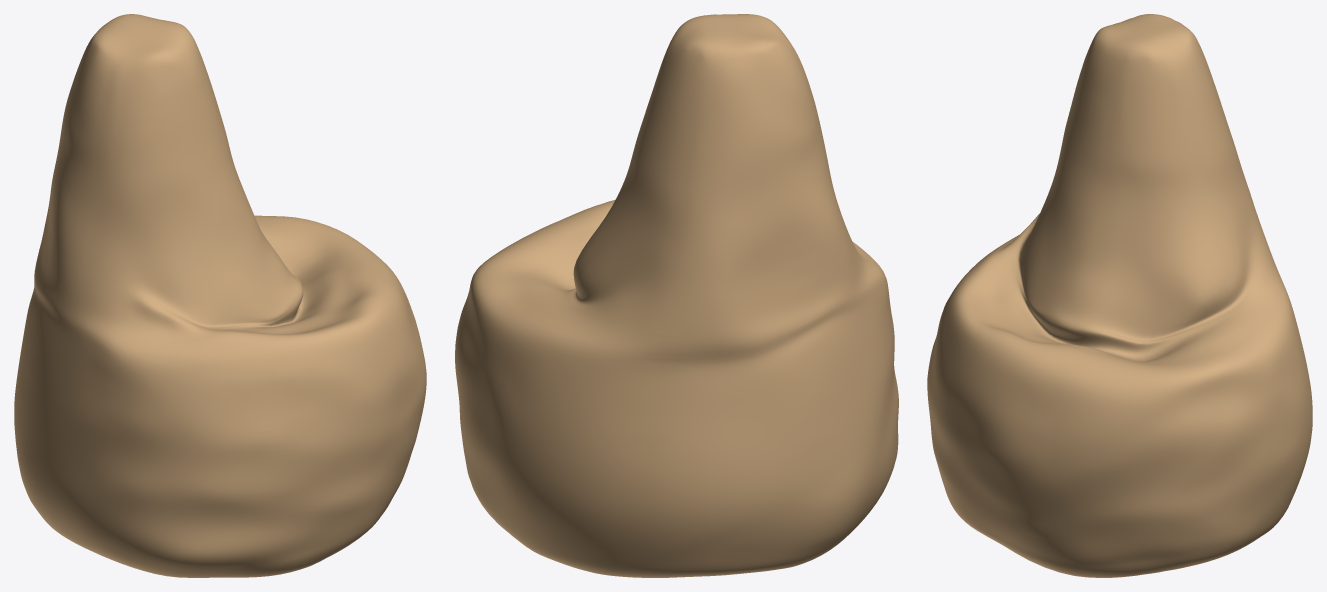
Rendered from beambag.fbx.
3 renders of one model, left to right at view 1: azimuth 30°, elevation 25°; view 2: azimuth 150°, elevation 25°; view 3: azimuth 270°, elevation 25°, orthographic. The views are drawn at different scales.
Visible parts, largest first — view 1: Sack; view 2: Sack; view 3: Sack.
Part boxes in pixels (x1,y1,x2,y2): Sack: (14,14,426,577); Sack: (455,14,898,577); Sack: (927,14,1312,577).
Bounding box in the file's own units: 21.84 × 28.38 × 21.61.
